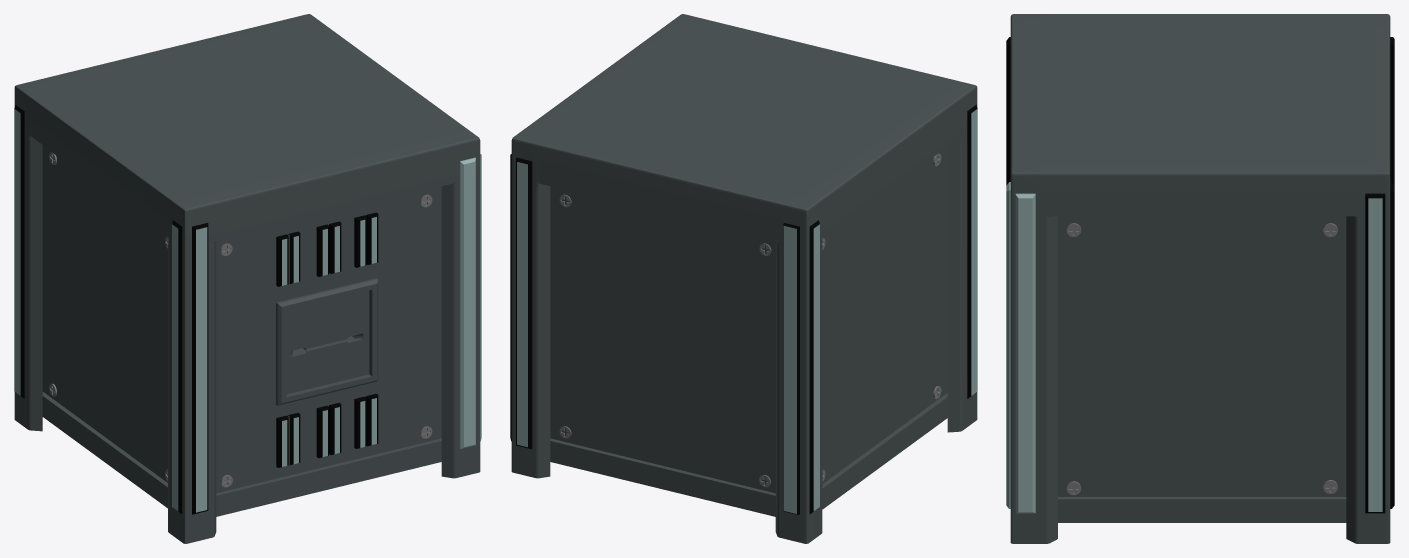
The picture shows the model from 3 angles, left to right: view 1: azimuth 30°, elevation 25°; view 2: azimuth 150°, elevation 25°; view 3: azimuth 270°, elevation 25°; orthographic projection. The views are drawn at different scales.
Parts seen in each view (by area): view 1: pPipe21; view 2: pPipe21; view 3: pPipe21.
Part boxes in pixels (left/top/right/bottom): pPipe21: left=14, top=14, right=481, bottom=543; pPipe21: left=510, top=14, right=977, bottom=543; pPipe21: left=1006, top=14, right=1394, bottom=543.
Size of the model in its own units: 3.21 by 3.39 by 3.21.
